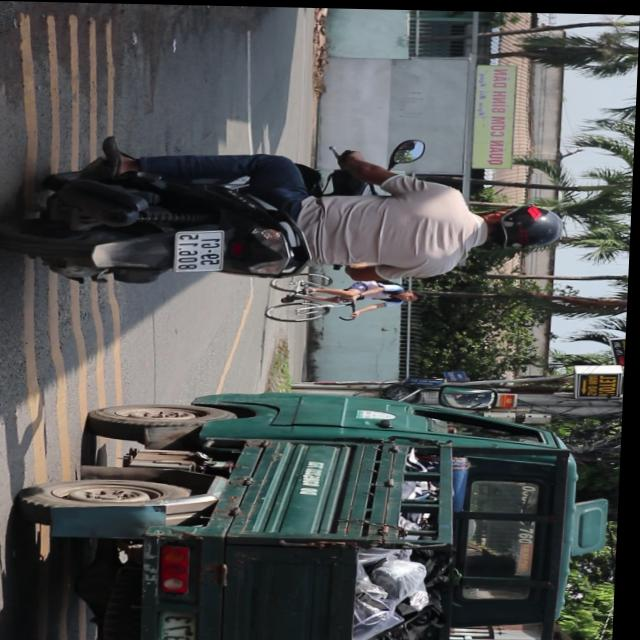helmet: (478, 200, 569, 250)
licenseplate: (0, 139, 573, 300)
nohelmet: (180, 229, 228, 272)
